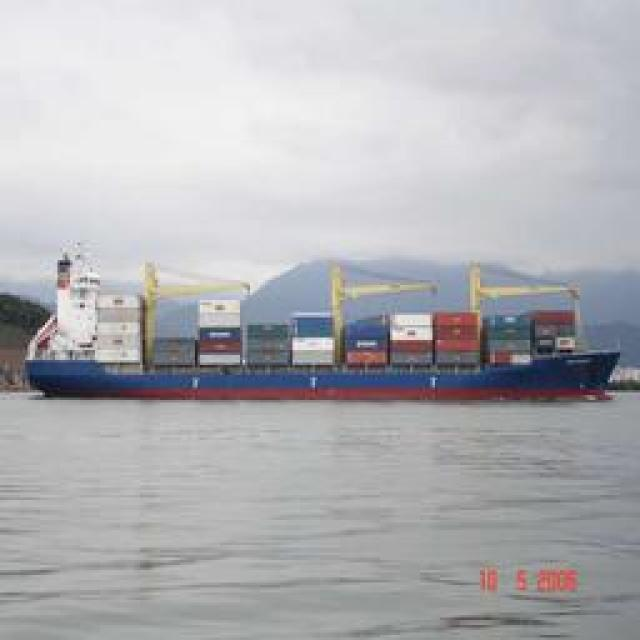ship2: (24, 241, 622, 407)
